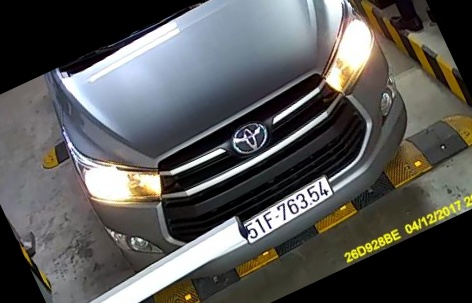plate: (242, 176, 332, 243)
